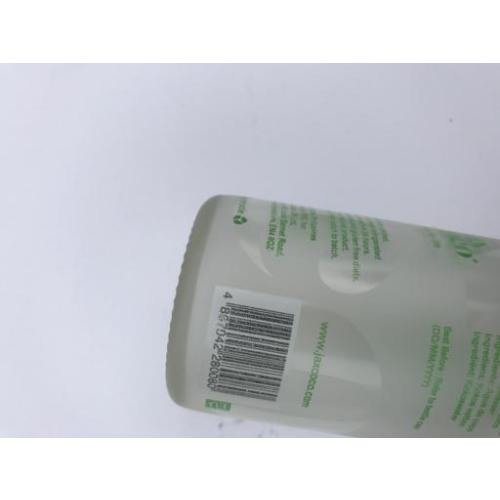glass: (169, 192, 499, 435)
